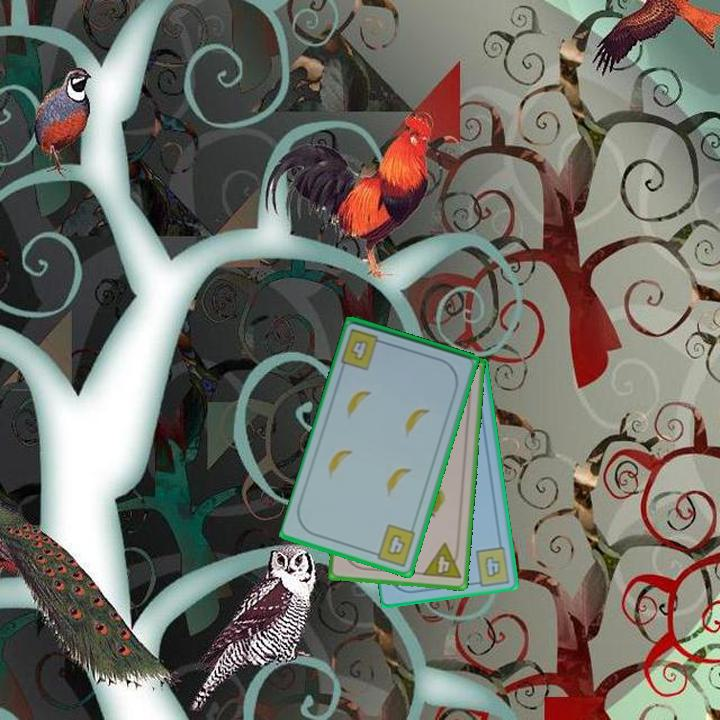4b: (338, 325, 390, 373), (368, 521, 419, 569), (469, 542, 513, 588)
4p: (419, 540, 464, 582)
